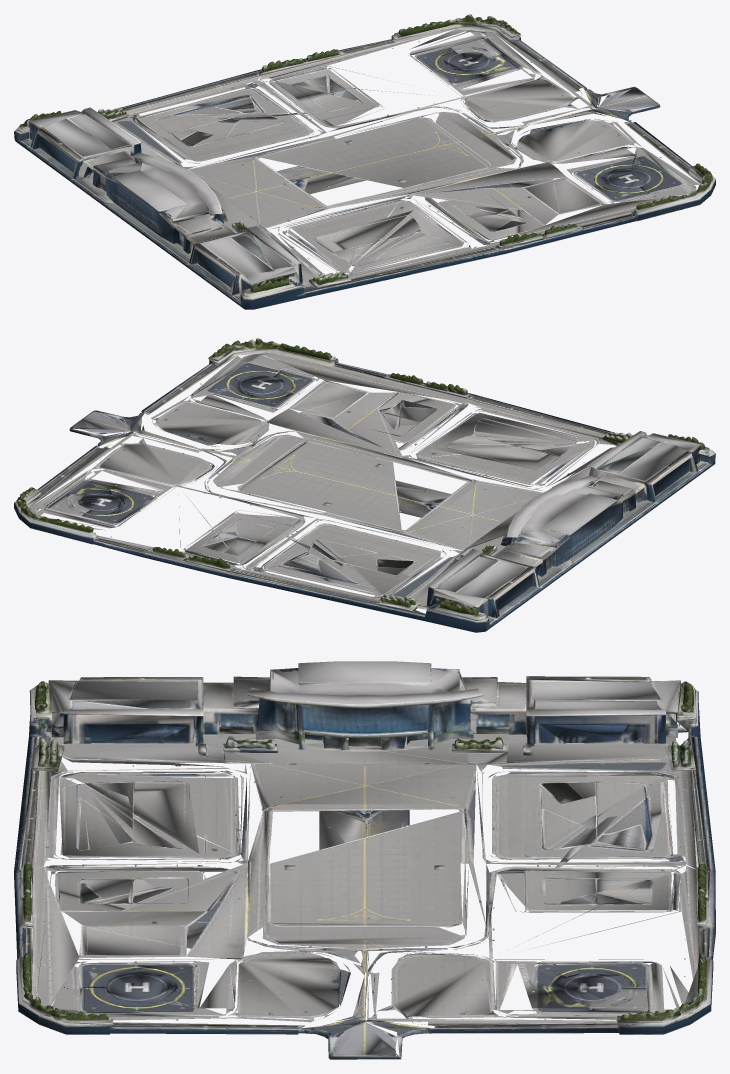
The model's file is airport_terminal.glb.
3 renders of one model, top to bottom at view 1: azimuth 30°, elevation 25°; view 2: azimuth 150°, elevation 25°; view 3: azimuth 270°, elevation 25°, orthographic. The views are drawn at different scales.
Parts seen in each view (by area): view 1: prop; view 2: prop; view 3: prop.
Part boxes in pixels (bbox=[...]): prop: bbox=[14, 14, 715, 309]; prop: bbox=[14, 338, 715, 632]; prop: bbox=[14, 661, 715, 1059].
Bounding box in the file's own units: 46 × 2.68 × 37.95.
Materials: 1 (1 with a texture image).
